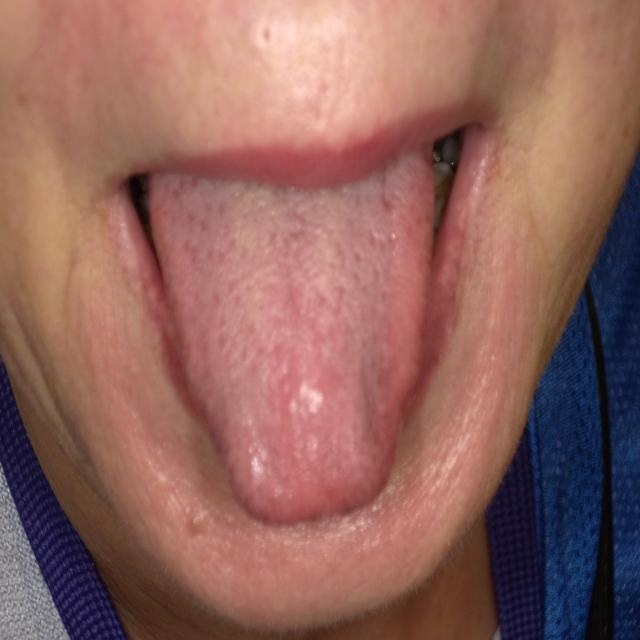hongshe: (148, 140, 437, 523)
shoushe: (148, 140, 437, 523)
